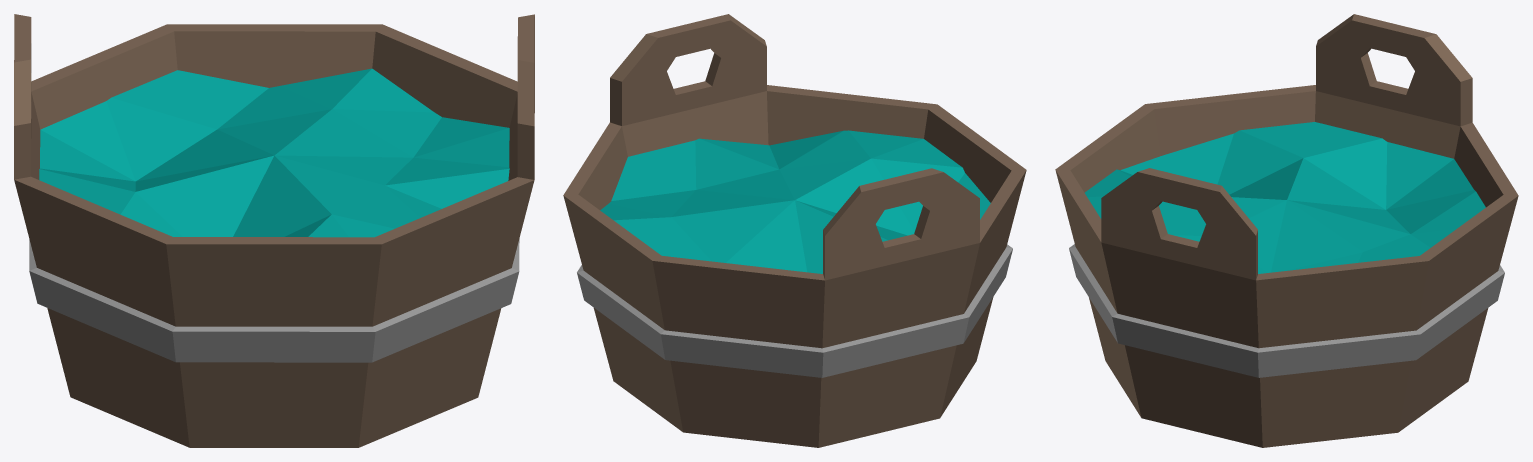
Rendered from Washtub.fbx.
The picture shows the model from 3 angles, left to right: view 1: azimuth 30°, elevation 25°; view 2: azimuth 150°, elevation 25°; view 3: azimuth 270°, elevation 25°; orthographic projection. The views are drawn at different scales.
Visible parts, largest first — view 1: Washtub; view 2: Washtub; view 3: Washtub.
Boxes of the visible parts, <box> form: Washtub: <box>14,14,534,447</box>; Washtub: <box>563,14,1026,447</box>; Washtub: <box>1055,14,1518,447</box>.
Size of the model in its own units: 64.77 by 64.77 by 42.04.
